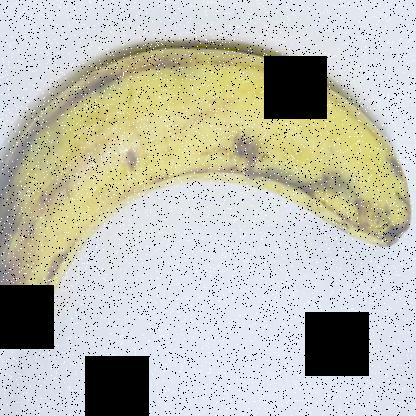ripe: (1, 43, 413, 356)
